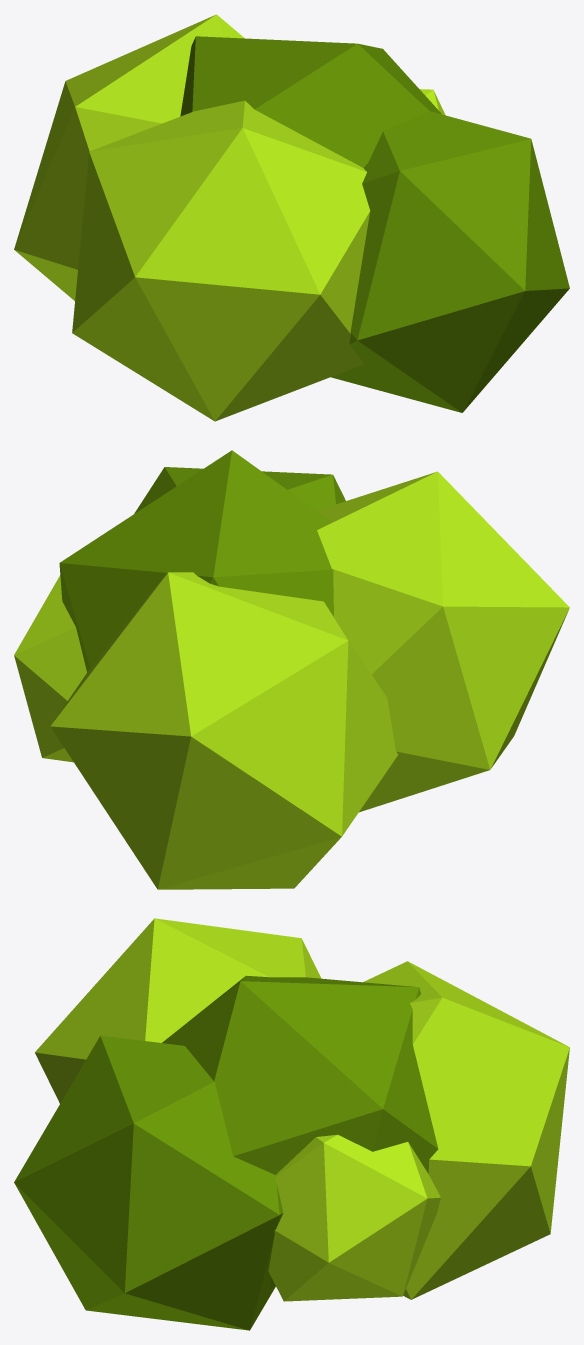
Rendered from bush2.fbx.
3 renders of one model, top to bottom at view 1: azimuth 30°, elevation 25°; view 2: azimuth 150°, elevation 25°; view 3: azimuth 270°, elevation 25°, orthographic. The views are drawn at different scales.
Parts seen in each view (by area): view 1: Bush2; view 2: Bush2; view 3: Bush2.
Part boxes in pixels (box(x1,y1,x2,y2)): Bush2: box(14, 14, 569, 421); Bush2: box(14, 450, 569, 889); Bush2: box(14, 918, 569, 1330).
Size of the model in its own units: 1.21 by 0.9169 by 1.34.
